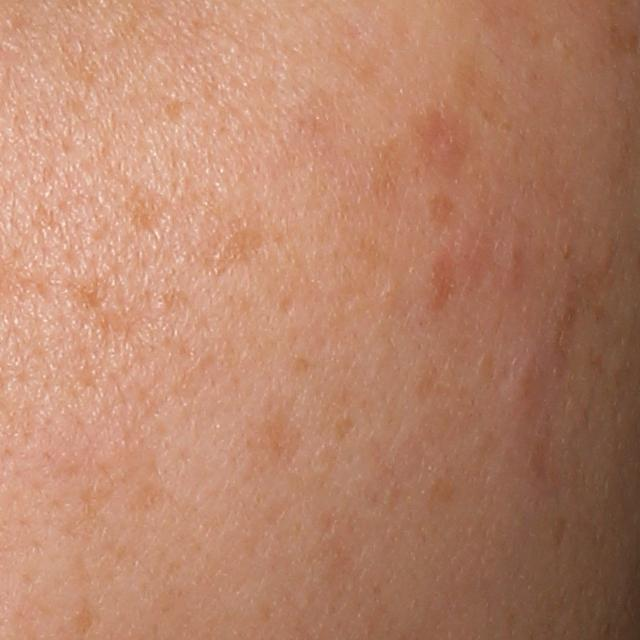atrophic_scar: (277, 294, 296, 315)
melasma: (195, 210, 271, 269), (358, 132, 403, 212), (125, 186, 168, 234)
